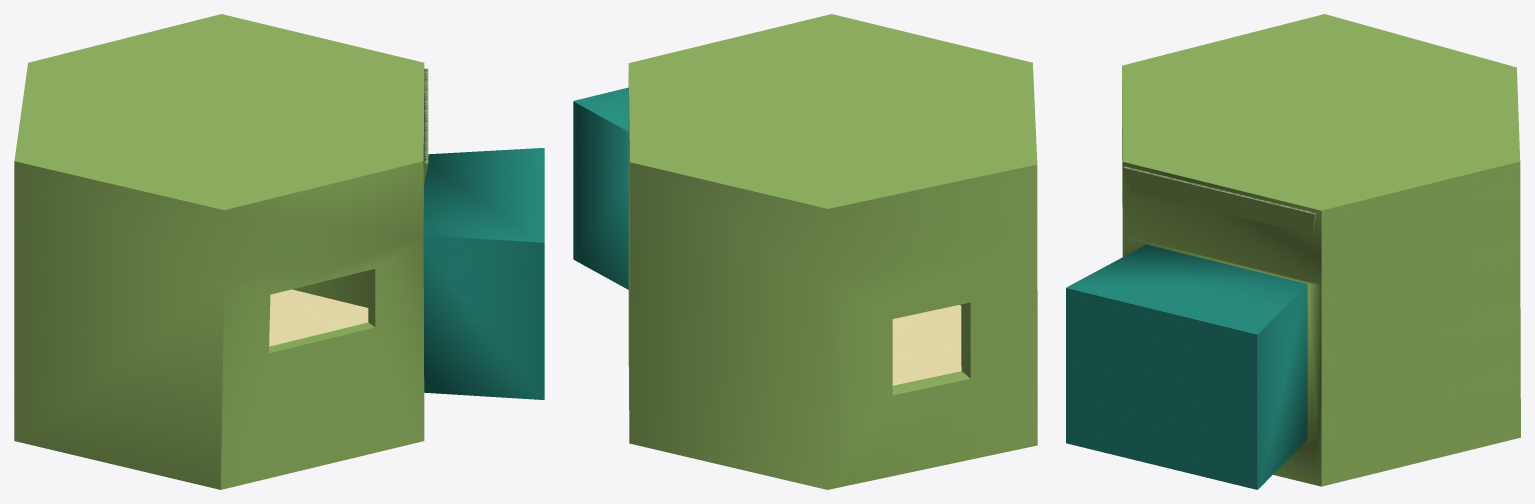
3 views of the same model, side by side, from view 1: azimuth 30°, elevation 25°; view 2: azimuth 150°, elevation 25°; view 3: azimuth 270°, elevation 25° (orthographic).
Parts seen in each view (by area): view 1: Room; view 2: Room; view 3: Room.
Part boxes in pixels (<box>): Room: <box>14,14,544,489</box>; Room: <box>573,14,1037,489</box>; Room: <box>1066,14,1520,489</box>.
Size of the model in its own units: 1061 by 572 by 853.
